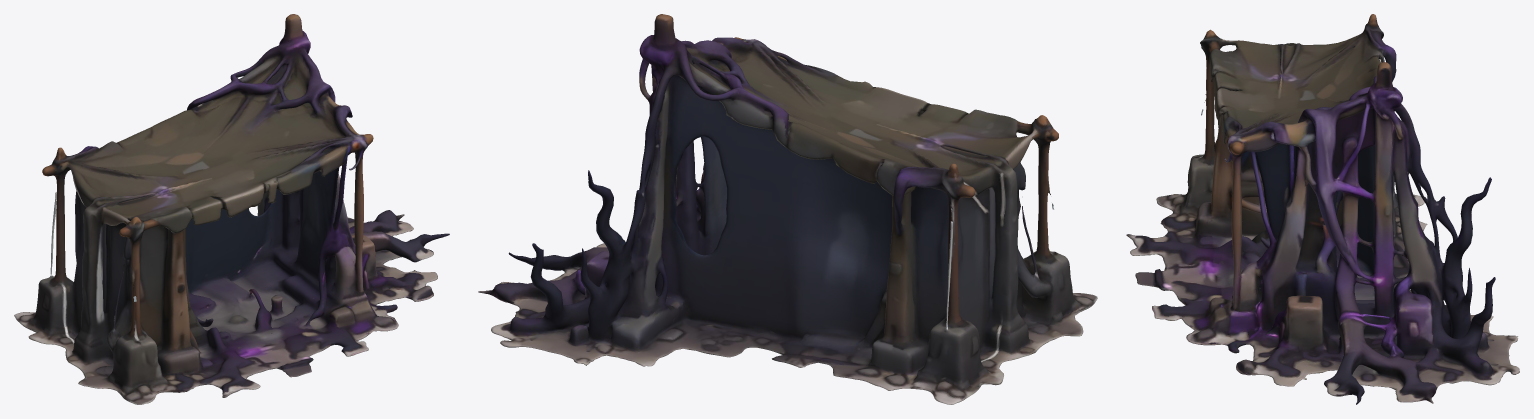
File: SM_Environment_FantasyRuinsTent_02.fbx
3 renders of one model, left to right at view 1: azimuth 30°, elevation 25°; view 2: azimuth 150°, elevation 25°; view 3: azimuth 270°, elevation 25°, orthographic. The views are drawn at different scales.
Visible parts, largest first — view 1: SM_Environment_FantasyRuinsTent_02; view 2: SM_Environment_FantasyRuinsTent_02; view 3: SM_Environment_FantasyRuinsTent_02.
Part boxes in pixels (x1,y1,x2,y2): SM_Environment_FantasyRuinsTent_02: [14, 14, 449, 404]; SM_Environment_FantasyRuinsTent_02: [478, 14, 1097, 404]; SM_Environment_FantasyRuinsTent_02: [1126, 14, 1519, 404].
Size of the model in its own units: 0.9868 by 0.5579 by 0.7288.
1 material, 1 textured.
